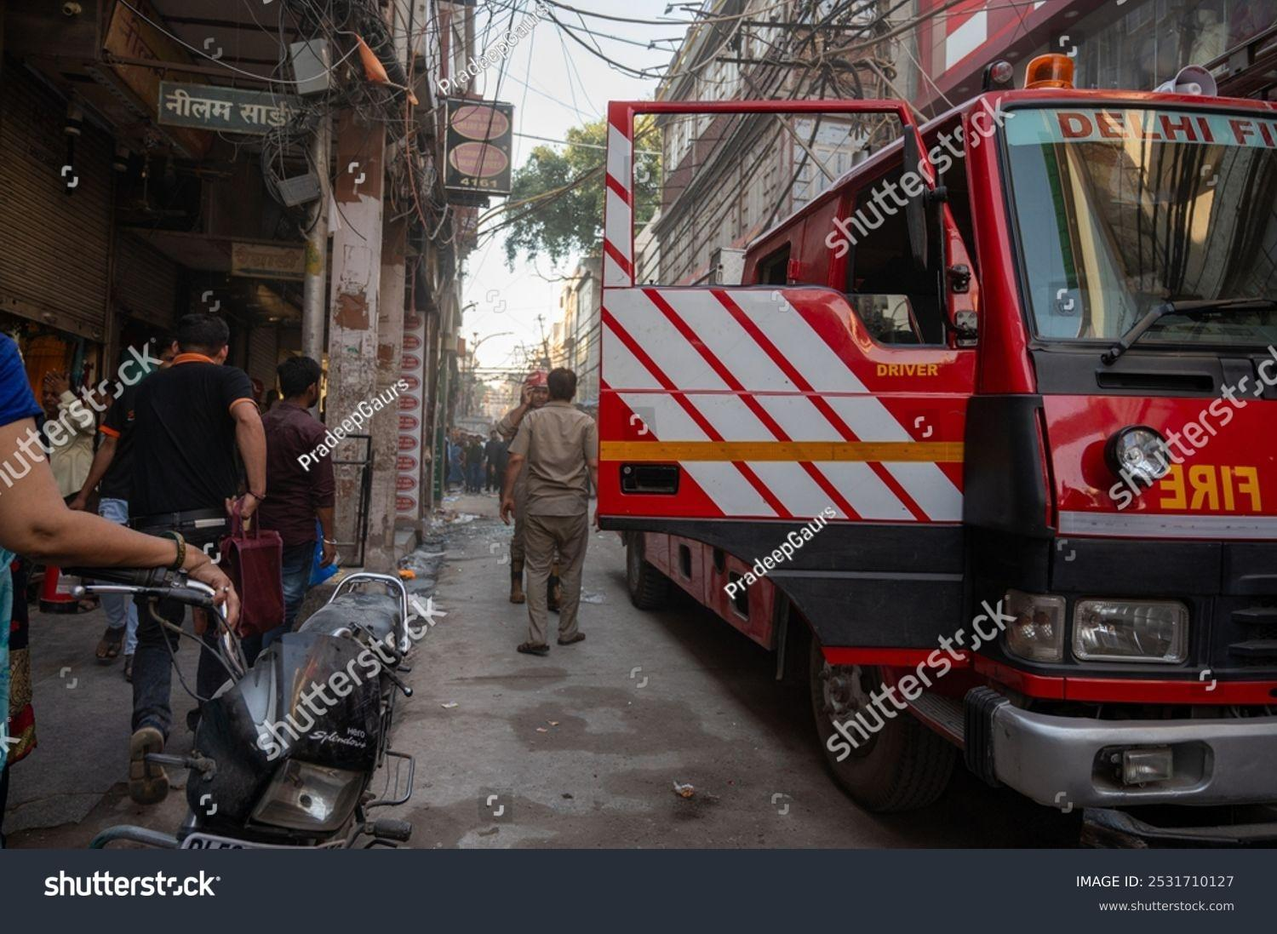Fire-engine: (598, 91, 1277, 850), (1150, 441, 1268, 527)
